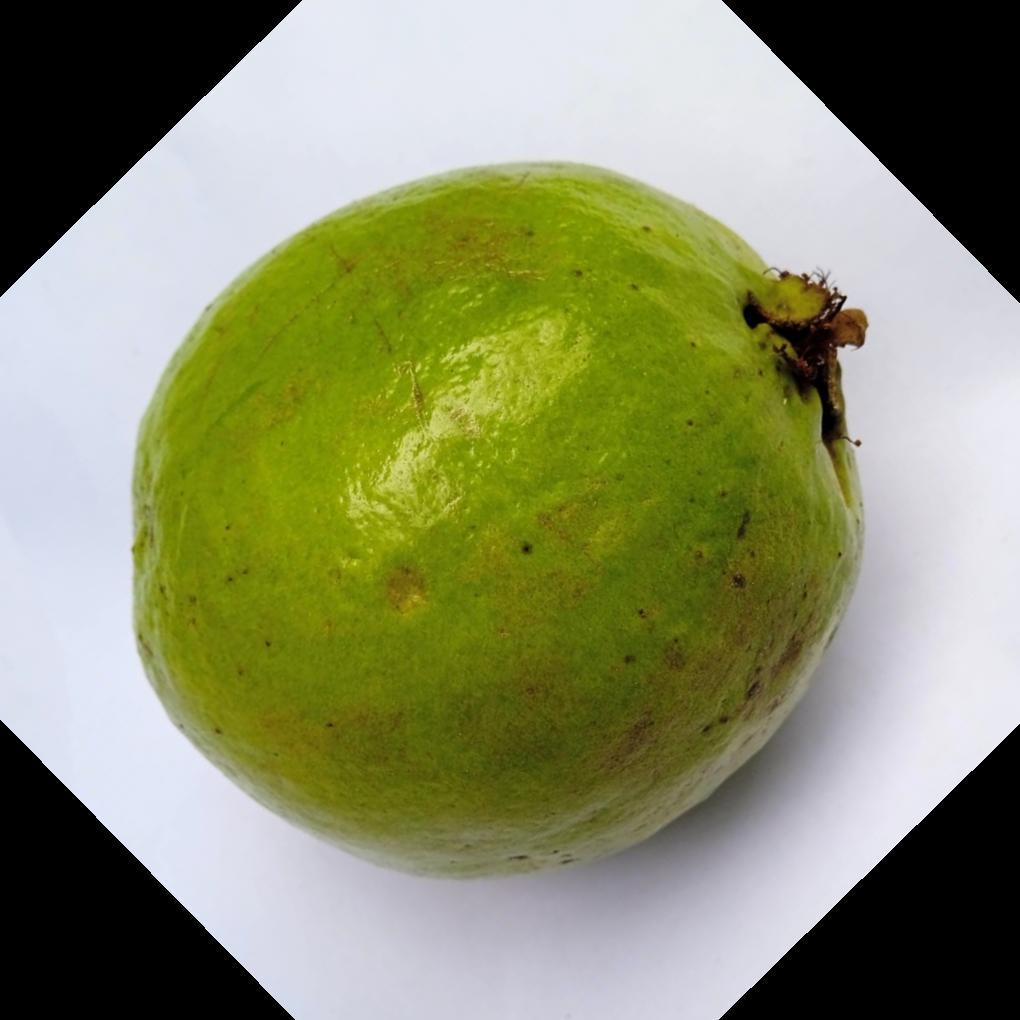FreshGuava: (125, 160, 869, 885)
